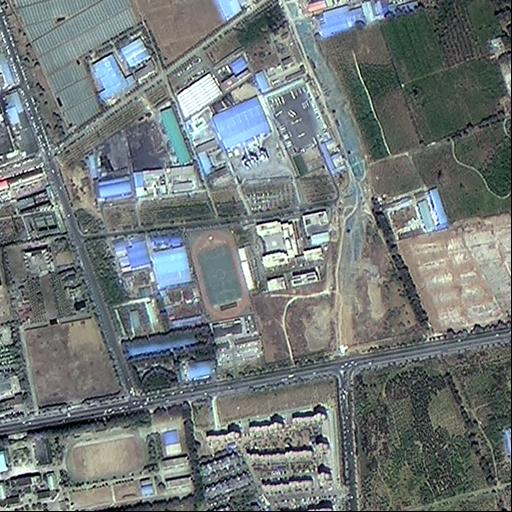school: (183, 206, 338, 325)
